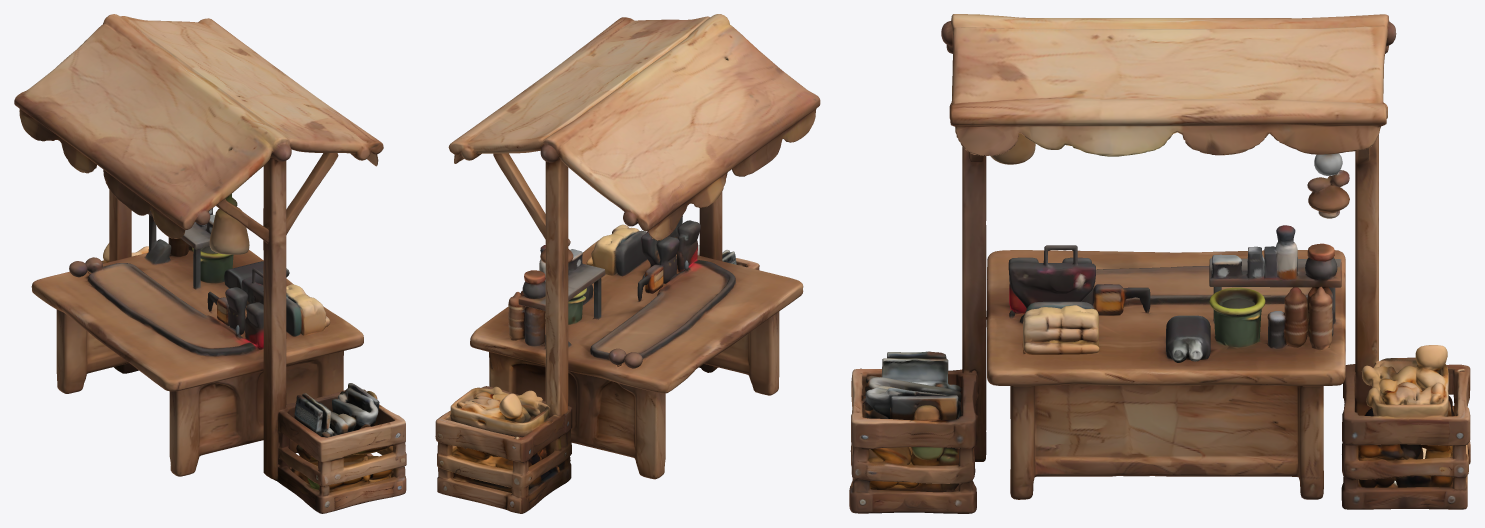
Rendered from plaza-stall-goods.glb.
The picture shows the model from 3 angles, left to right: view 1: azimuth 30°, elevation 25°; view 2: azimuth 150°, elevation 25°; view 3: azimuth 270°, elevation 25°; orthographic projection. The views are drawn at different scales.
Parts seen in each view (by area): view 1: tripo_node_43e19f63-5474-431e-9134-270af5c17215; view 2: tripo_node_43e19f63-5474-431e-9134-270af5c17215; view 3: tripo_node_43e19f63-5474-431e-9134-270af5c17215.
Part boxes in pixels (x1,y1,x2,y2): tripo_node_43e19f63-5474-431e-9134-270af5c17215: (14,14,406,513); tripo_node_43e19f63-5474-431e-9134-270af5c17215: (435,14,820,513); tripo_node_43e19f63-5474-431e-9134-270af5c17215: (849,14,1470,513).
Bounding box in the file's own units: 1.52 × 2.5 × 3.16.
1 material, 1 textured.
